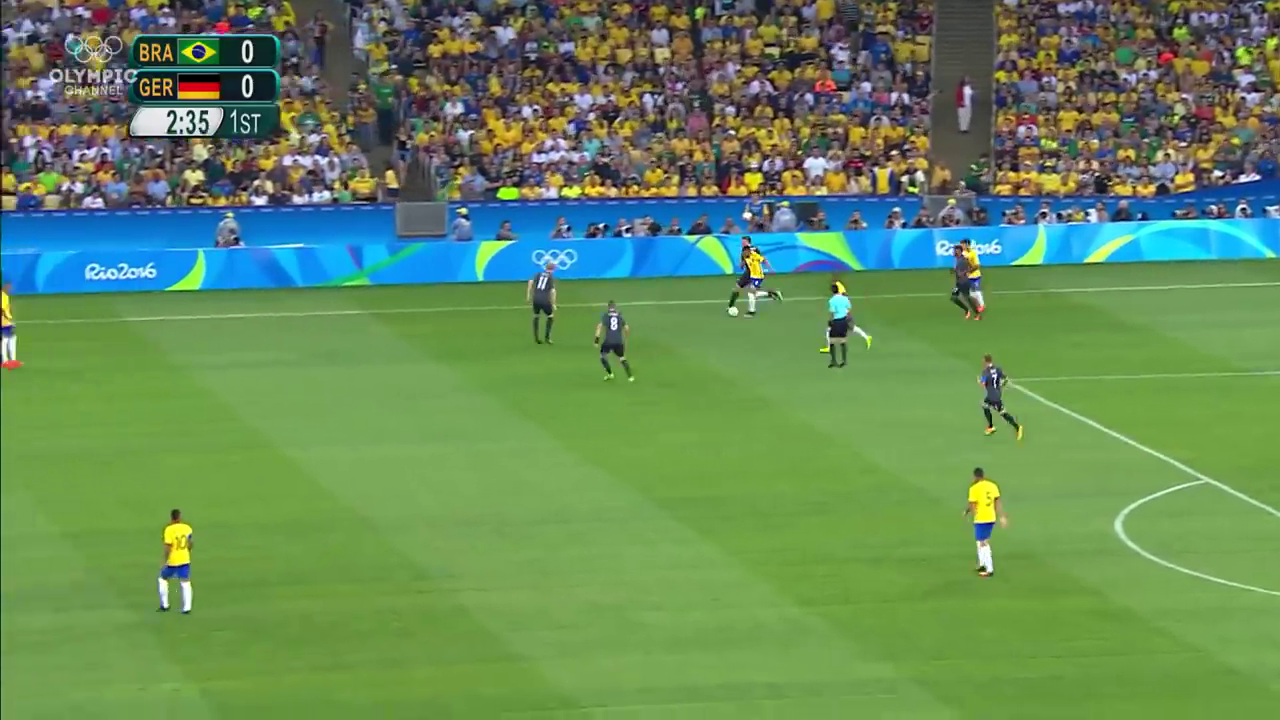ball: (725, 304, 740, 320)
player: (962, 468, 1014, 581), (154, 508, 199, 614), (977, 351, 1023, 440), (726, 234, 777, 311), (592, 302, 641, 382), (826, 276, 870, 350), (742, 247, 783, 320), (526, 264, 563, 343), (962, 236, 987, 315), (826, 288, 851, 367), (951, 244, 976, 320), (1, 279, 18, 367)
